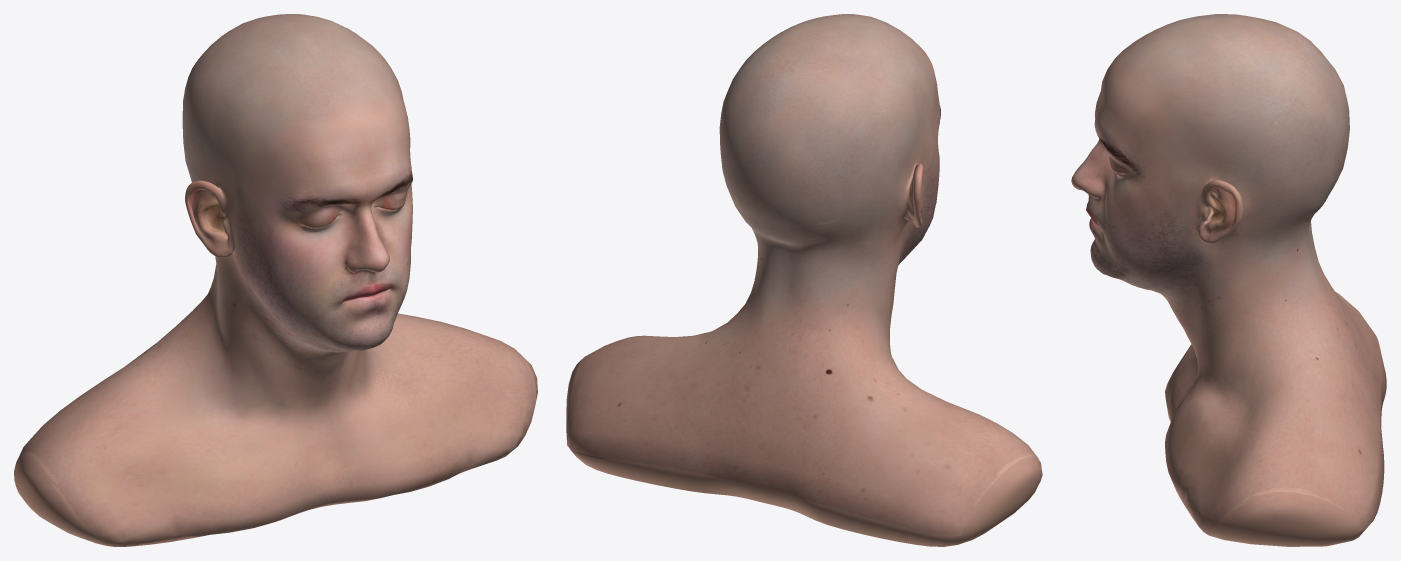
The model's file is man.glb.
3 views of the same model, side by side, from view 1: azimuth 30°, elevation 25°; view 2: azimuth 150°, elevation 25°; view 3: azimuth 270°, elevation 25° (orthographic). The views are drawn at different scales.
Visible parts, largest first — view 1: LeePerrySmith; view 2: LeePerrySmith; view 3: LeePerrySmith.
Boxes of the visible parts, <box> form: LeePerrySmith: <box>14,14,537,546</box>; LeePerrySmith: <box>566,14,1042,546</box>; LeePerrySmith: <box>1071,14,1386,546</box>.
Bounding box in the file's own units: 8.55 × 7.95 × 5.18.
1 material, 1 textured.
